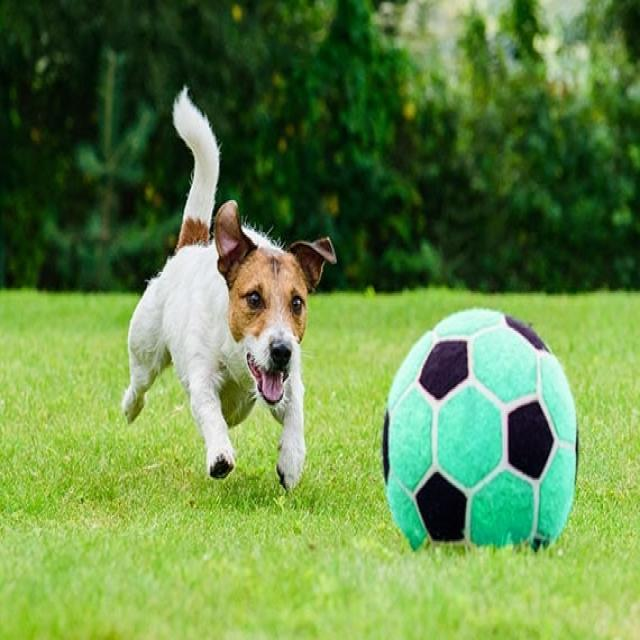soccer ball: (383, 310, 579, 566)
